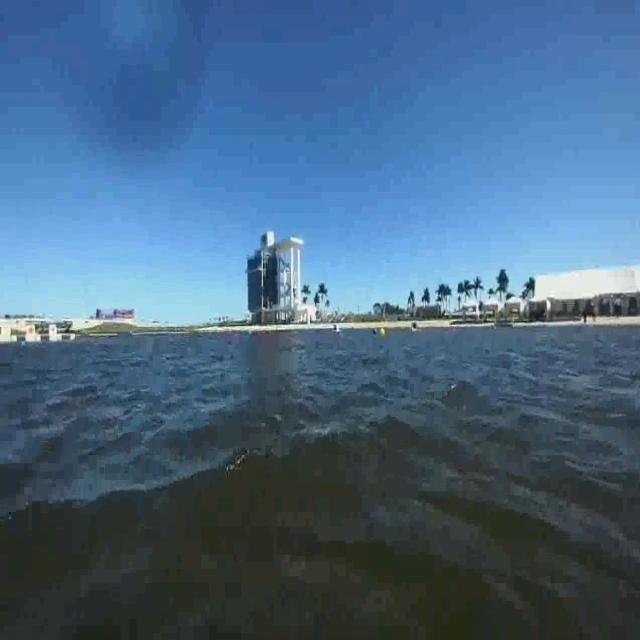yellow-buoy: (380, 326, 387, 338)
